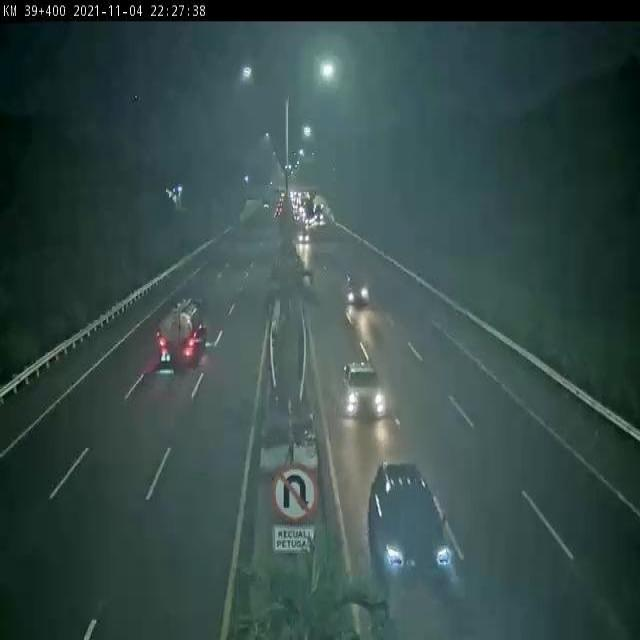Car: (366, 463, 457, 585), (336, 356, 389, 422)
Truck: (150, 296, 208, 372)
